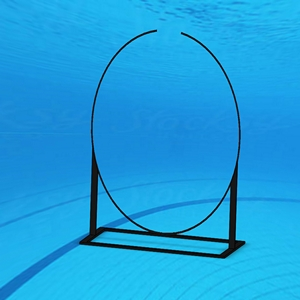circle: (76, 29, 249, 260)
